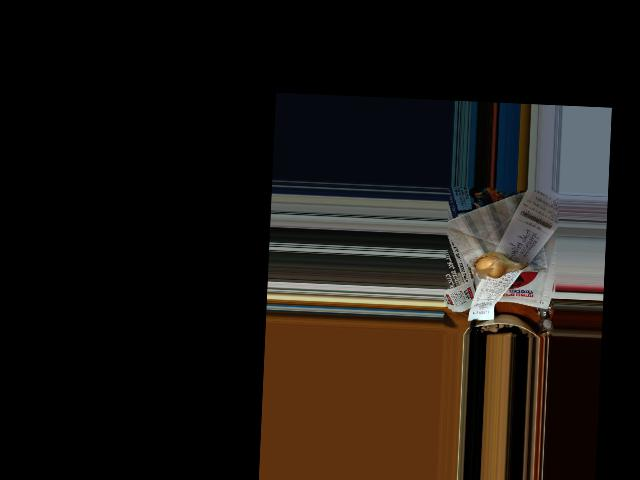onion: (474, 252, 514, 277)
